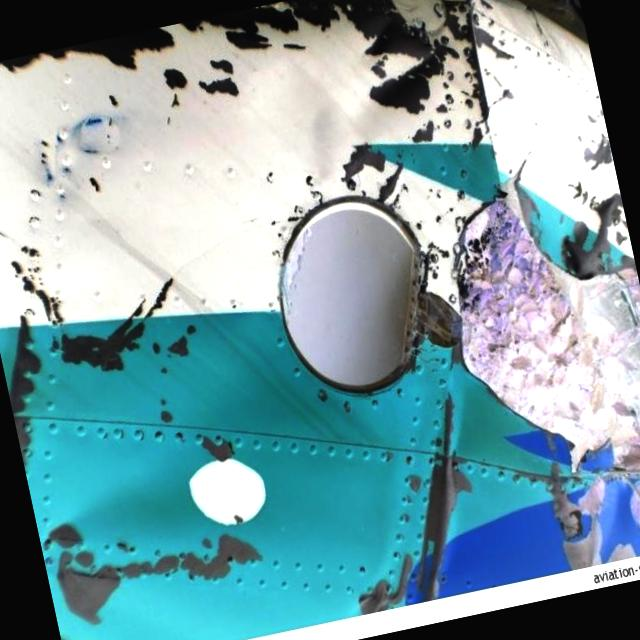dent: (457, 200, 640, 473), (447, 372, 640, 570), (313, 0, 544, 162)
